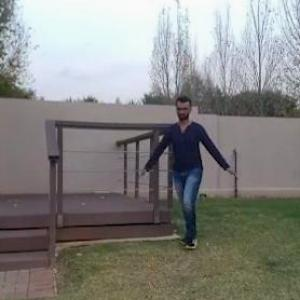land: (132, 84, 241, 270)
